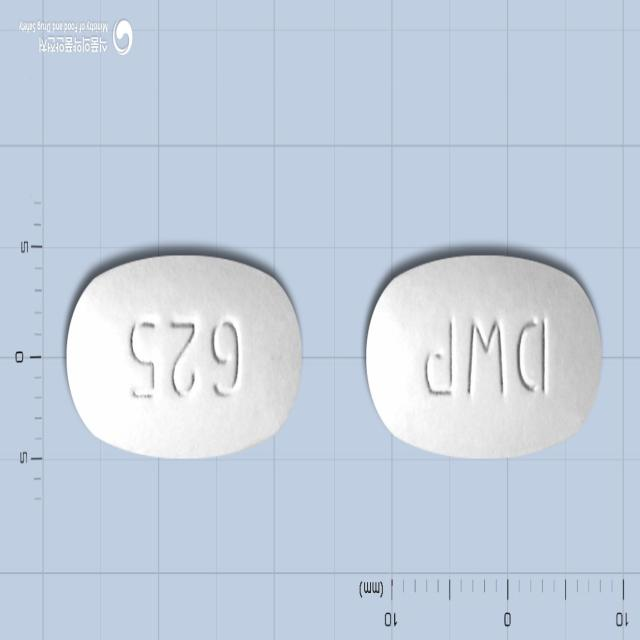A Progen Clarithromycin Tab-500mg: (63, 250, 303, 459), (362, 252, 600, 459)
